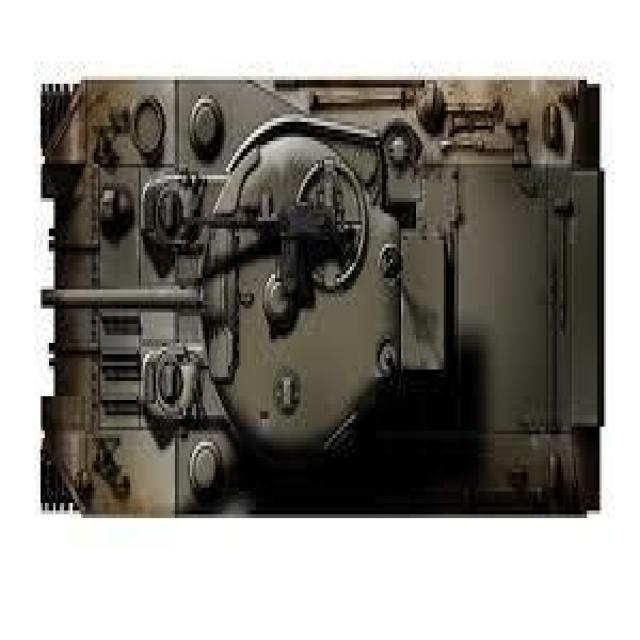Tanks: (22, 42, 618, 556)
